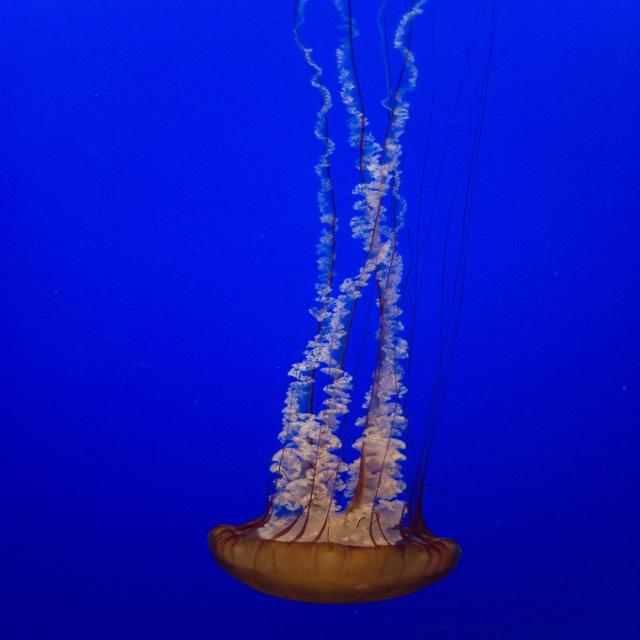Jellyfish: (209, 0, 519, 613)
